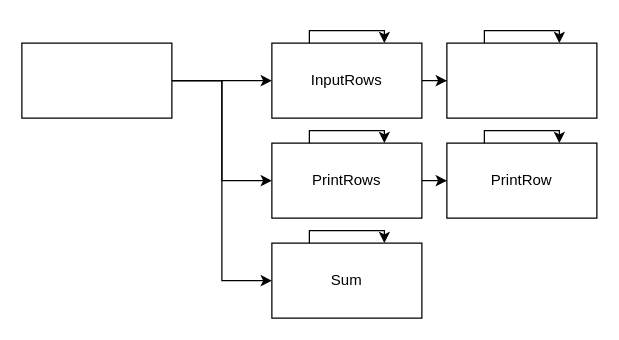
The diagram is 619 pixels wide and 340 high, and some of its shapes have lost their labels. The centre of each missing label's shape, as x and y in pixels:
InputRow: (521,80)
main: (96,80)
